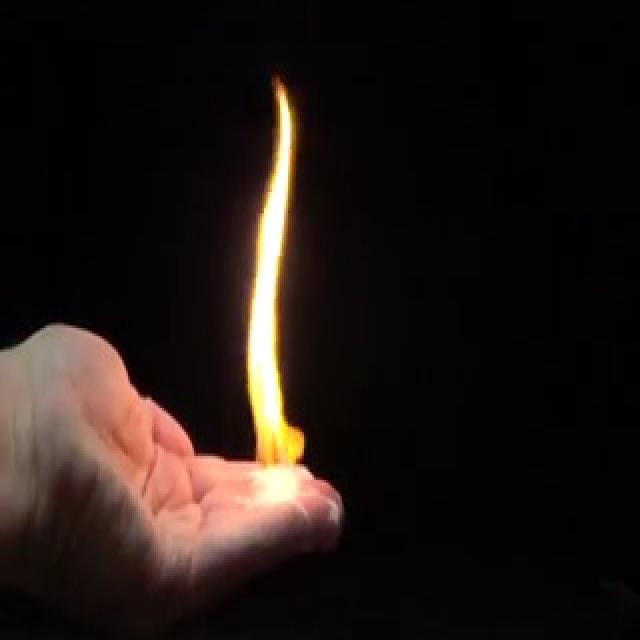fire: (230, 71, 313, 506)
